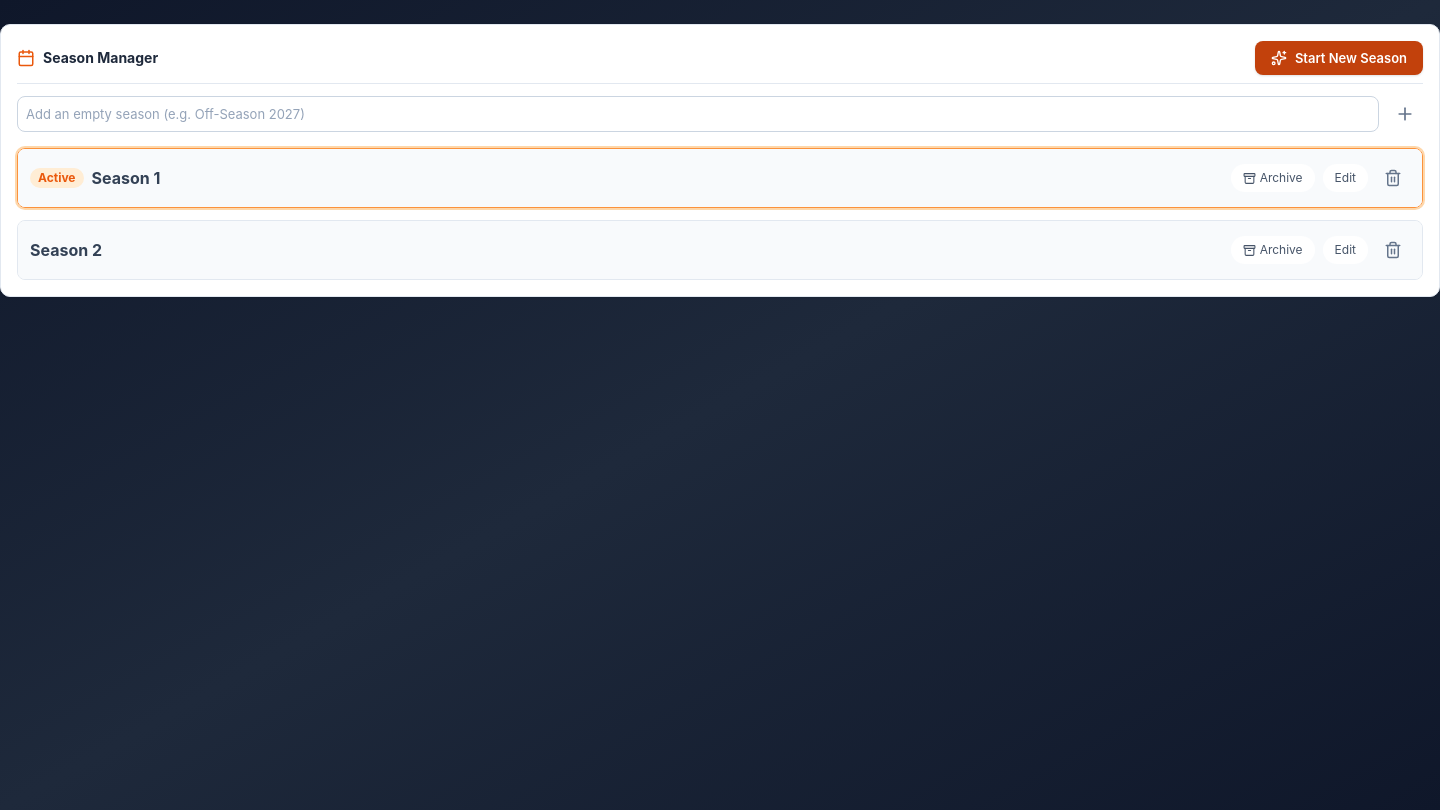
Test case: SeasonManager › Deleting a Season › shows confirmation modal and deletes season
Click the button with class "lucide-trash-2": (1393, 250) [1376,233,1410,267]
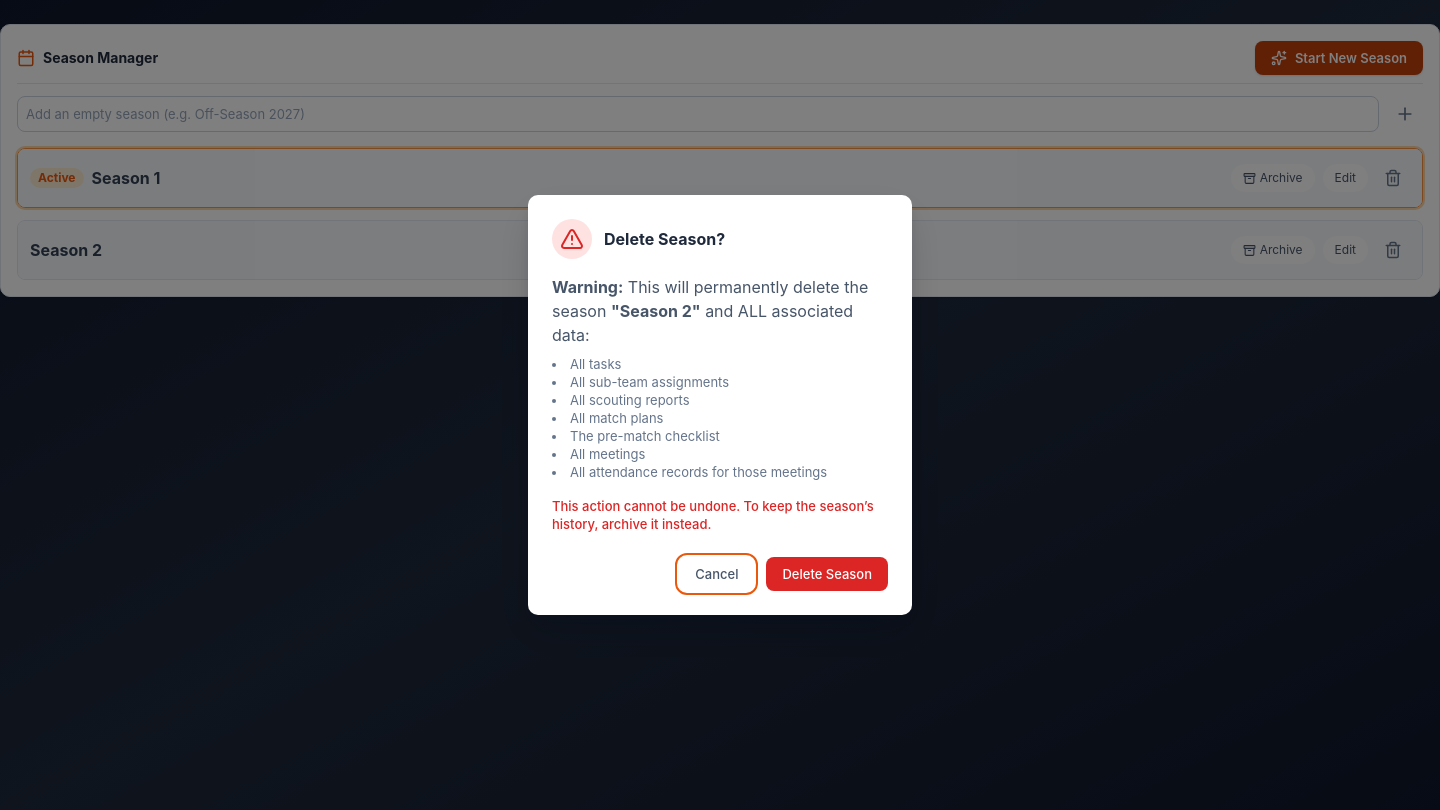
Check: the heading "Delete Season?" is shown, box [604,227,725,251]
Check: the text "permanently delete the season" is shown, box [552,277,868,321]
Click the button "Cancel": (717, 574) [679,557,754,591]
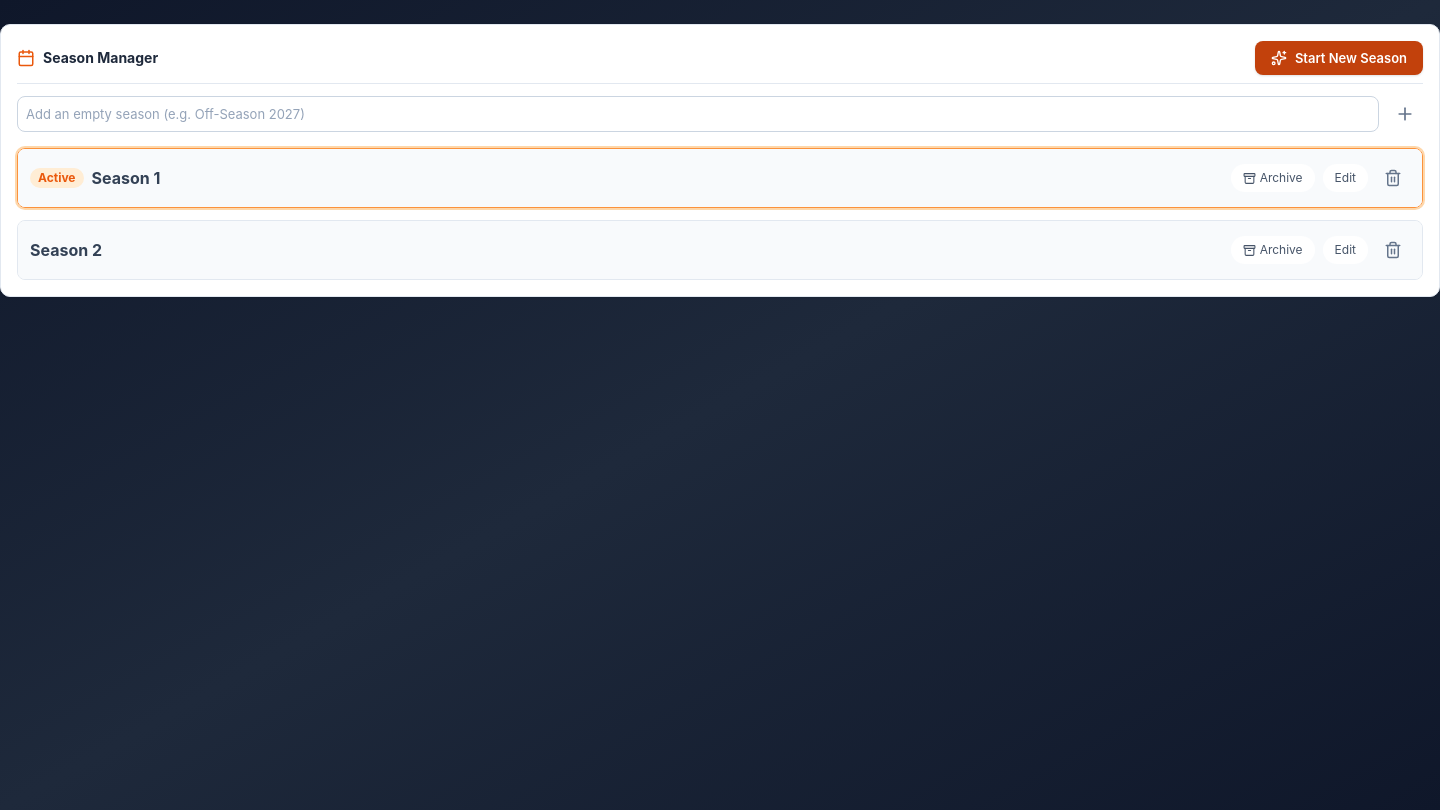
Check: the heading "Delete Season?" is gone
Click the button with class "lucide-trash-2": (1393, 250) [1376,233,1410,267]
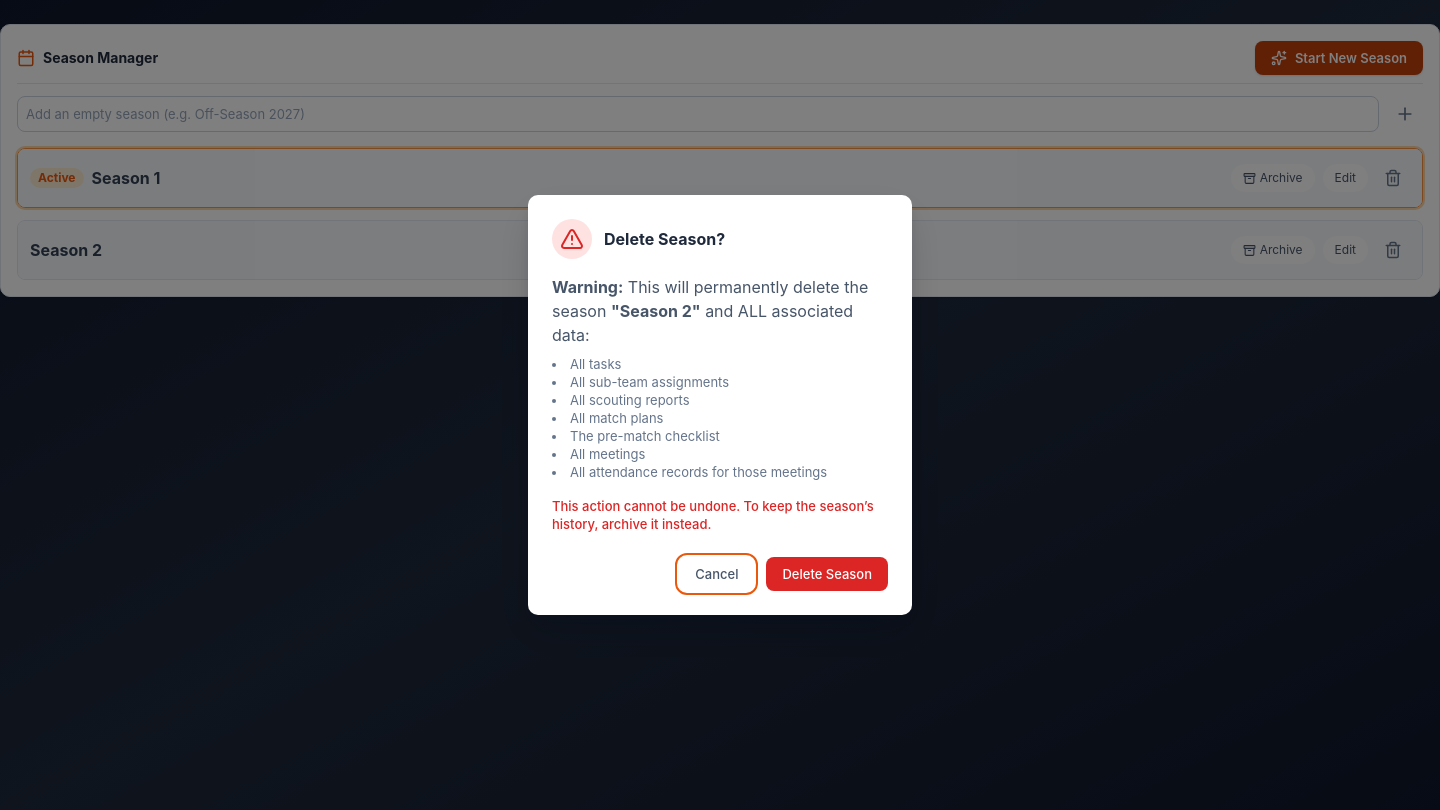
Click the button "Delete Season": (827, 574) [766,557,888,591]
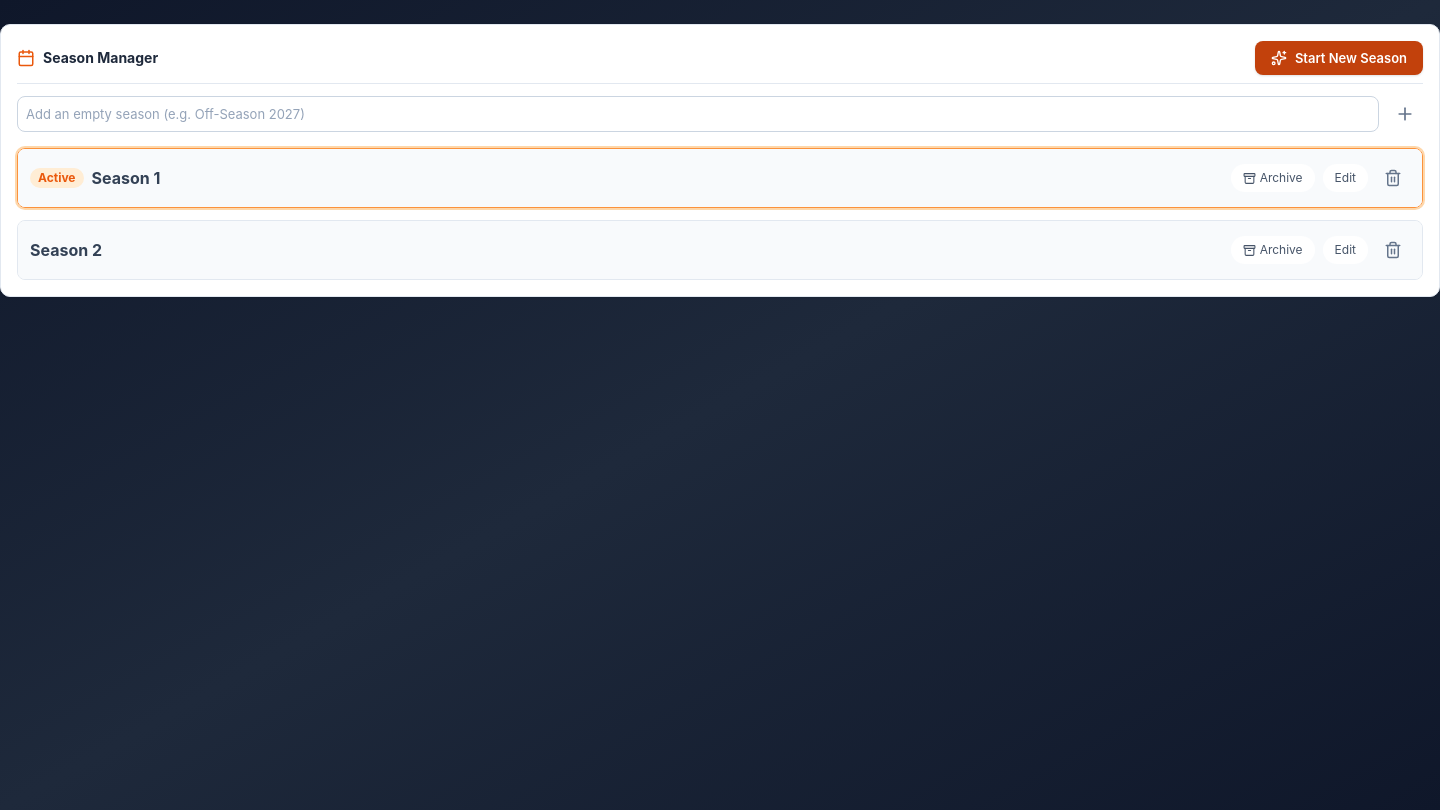
Check: the heading "Delete Season?" is gone
